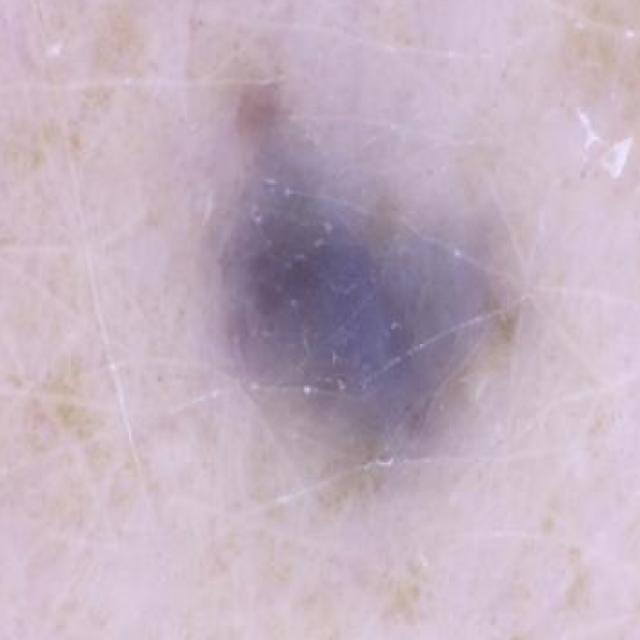NV: (120, 20, 560, 493)
